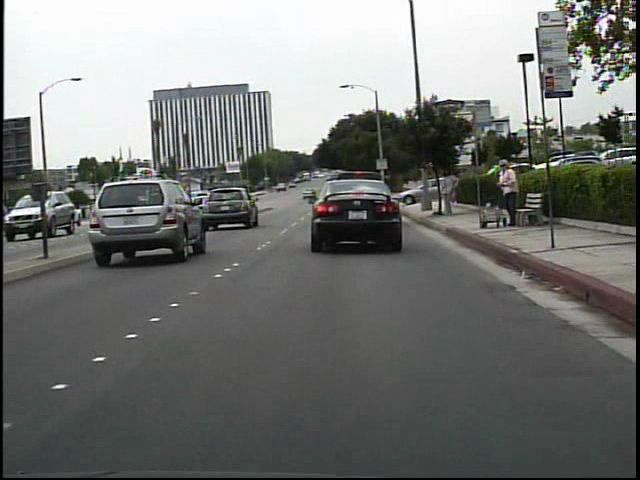person: (490, 157, 520, 228), (437, 166, 463, 219)
